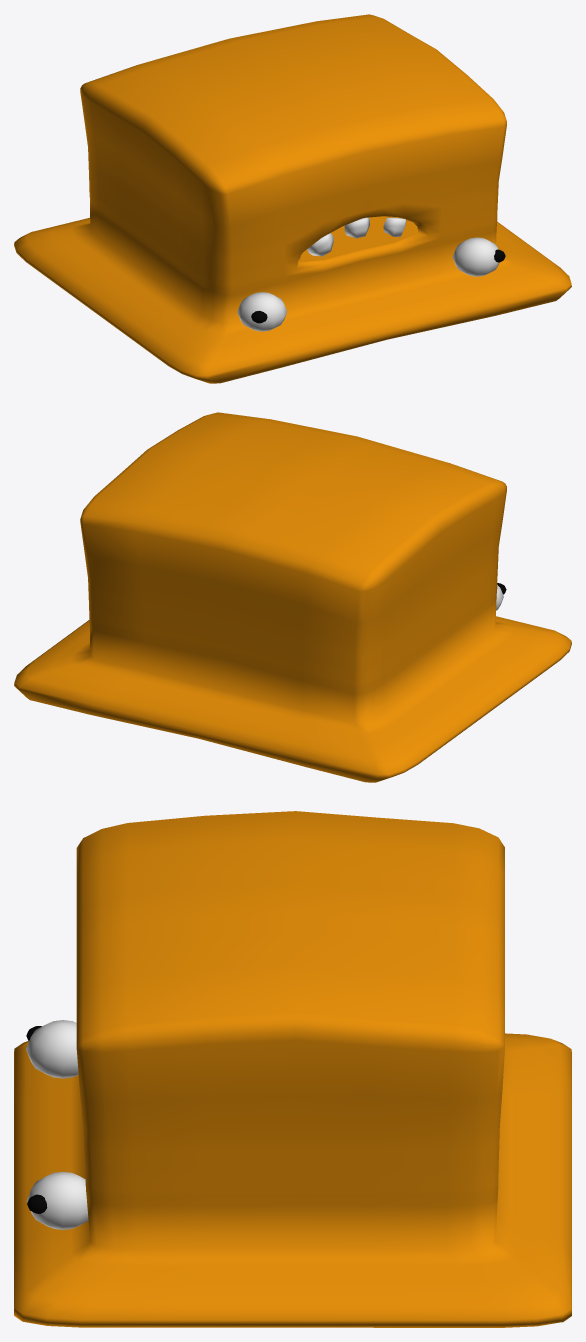
Rendered from Bouba6.fbx.
The picture shows the model from 3 angles, top to bottom: view 1: azimuth 30°, elevation 25°; view 2: azimuth 150°, elevation 25°; view 3: azimuth 270°, elevation 25°; orthographic projection. The views are drawn at different scales.
Parts seen in each view (by area): view 1: Bloop; view 2: Bloop; view 3: Bloop.
Boxes of the visible parts, box(x1,y1,x2,y2) form: Bloop: box(14, 14, 571, 383); Bloop: box(14, 412, 571, 782); Bloop: box(14, 811, 571, 1327).
Bounding box in the file's own units: 282 × 139 × 235.
